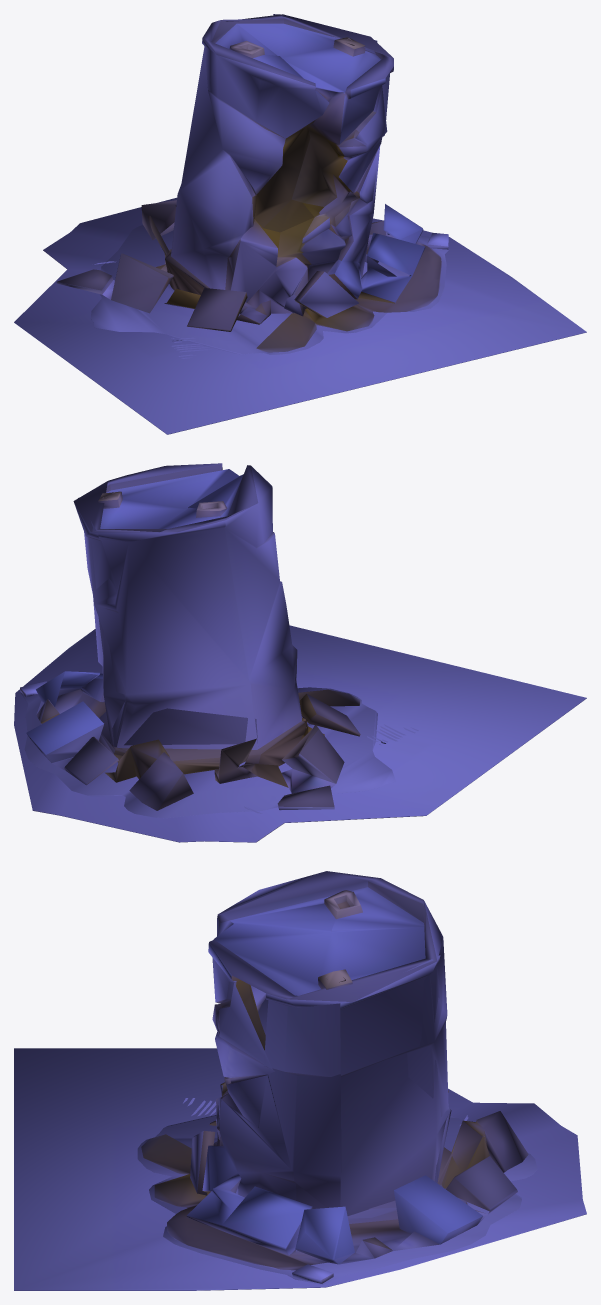
Rendered from model.progressive.glb.
3 renders of one model, top to bottom at view 1: azimuth 30°, elevation 25°; view 2: azimuth 150°, elevation 25°; view 3: azimuth 270°, elevation 25°, orthographic. The views are drawn at different scales.
Parts seen in each view (by area): view 1: CrushedOilBarrel2; view 2: CrushedOilBarrel2; view 3: CrushedOilBarrel2.
Part boxes in pixels (x1,y1,x2,y2): CrushedOilBarrel2: (14, 14, 586, 434); CrushedOilBarrel2: (14, 463, 586, 842); CrushedOilBarrel2: (14, 871, 586, 1290).
Size of the model in its own units: 1.9 by 1.03 by 1.9.
1 material, 1 textured.
